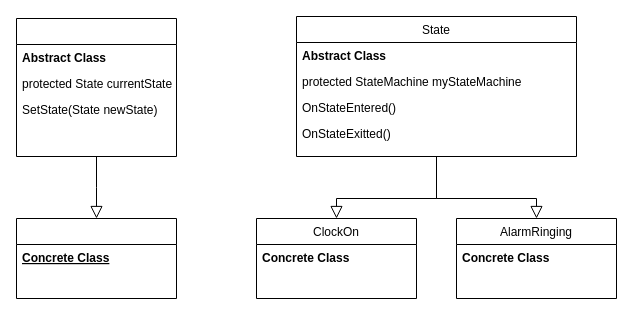
The diagram is 633 pixels wide and 315 high, and some of its shapes have lost their labels. The shapes that lost their labels are listed below. From the top down, each one's box as (x1, y1, x2, y2) in pixels, then its label:
(16, 18, 176, 156): State Machine
(16, 218, 176, 298): Clock Machine
